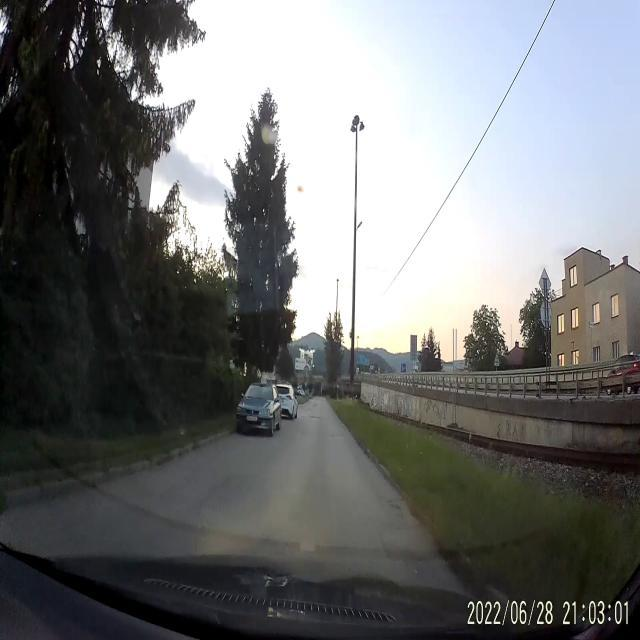Pothole: (388, 500, 404, 513), (331, 432, 346, 441), (310, 414, 322, 422)
